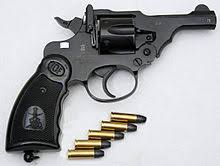Gun: (60, 9, 211, 105)
